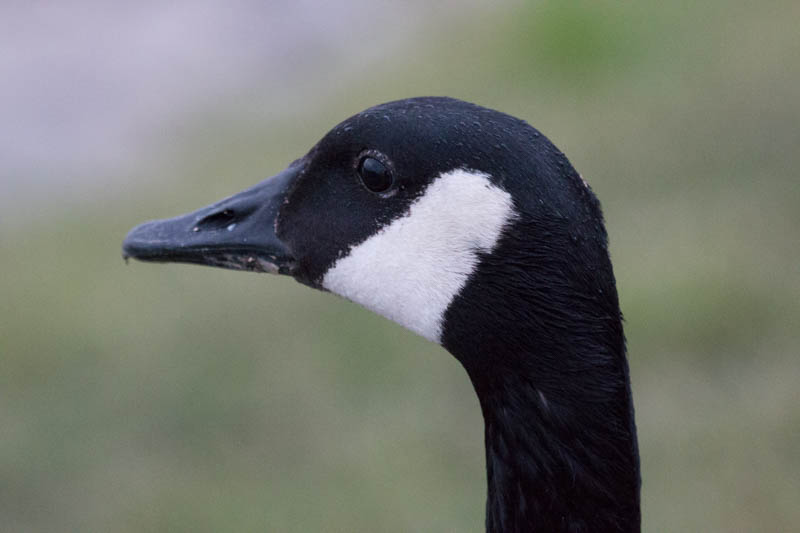goose-head: (122, 97, 610, 351)
